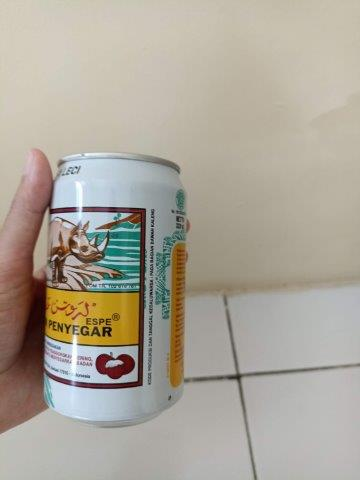kaleng: (44, 155, 186, 426)
